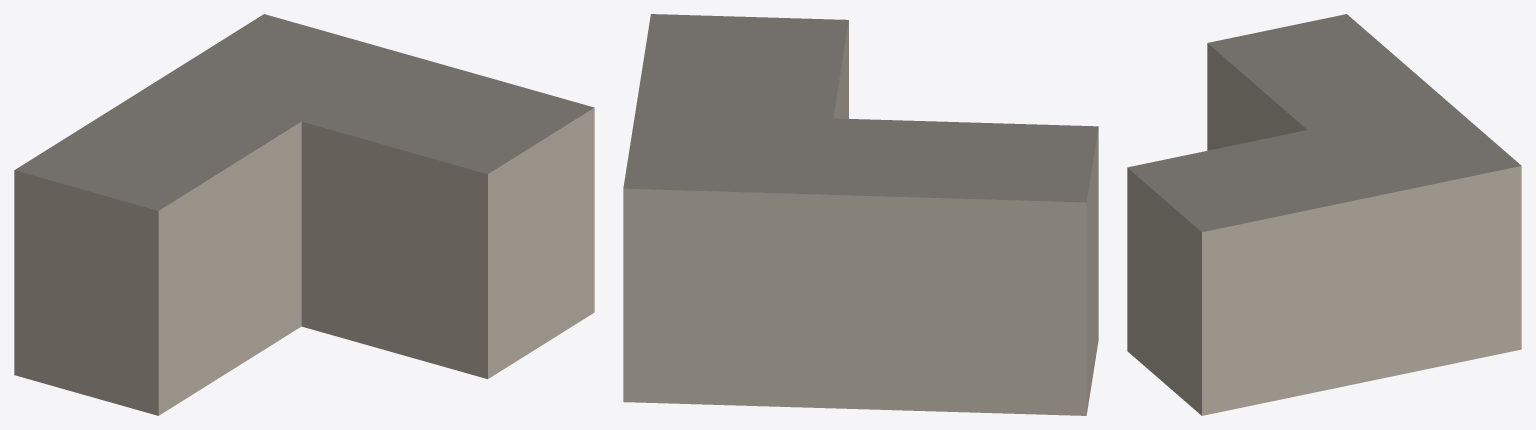
3 views of the same model, side by side, from view 1: azimuth 30°, elevation 25°; view 2: azimuth 150°, elevation 25°; view 3: azimuth 270°, elevation 25° (orthographic). The views are drawn at different scales.
Parts seen in each view (by area): view 1: HP-w1202250225; view 2: HP-w1202250225; view 3: HP-w1202250225.
Boxes of the visible parts, left/top/right/bottom form: HP-w1202250225: left=14, top=14, right=594, bottom=415; HP-w1202250225: left=623, top=14, right=1098, bottom=415; HP-w1202250225: left=1127, top=14, right=1521, bottom=415.
Bounding box in the file's own units: 30.59 × 12 × 23.36.
